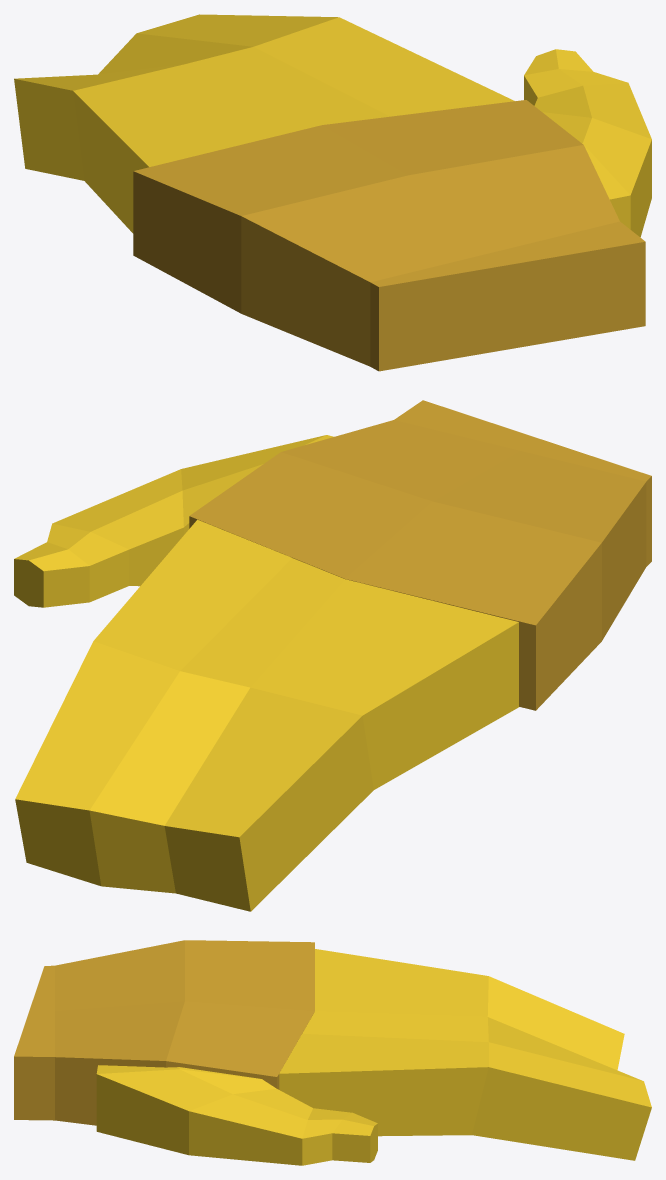
The model's file is VR_Hand_Yellow.FBX.
The picture shows the model from 3 angles, top to bottom: view 1: azimuth 30°, elevation 25°; view 2: azimuth 150°, elevation 25°; view 3: azimuth 270°, elevation 25°; orthographic projection. The views are drawn at different scales.
Parts seen in each view (by area): view 1: VR_Hand 003; view 2: VR_Hand 003; view 3: VR_Hand 003.
Part boxes in pixels (<box>): VR_Hand 003: <box>14,14,651,371</box>; VR_Hand 003: <box>14,400,651,911</box>; VR_Hand 003: <box>14,940,651,1165</box>.
Bounding box in the file's own units: 19.08 × 6.73 × 28.84.
